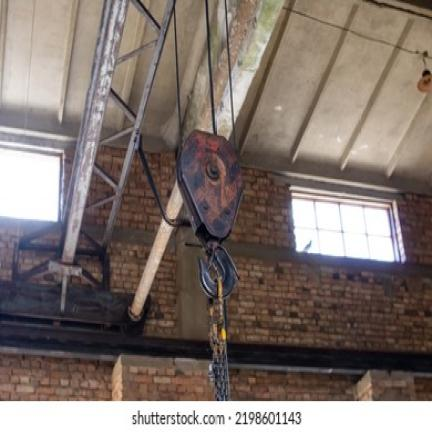karat: (178, 130, 243, 299)
